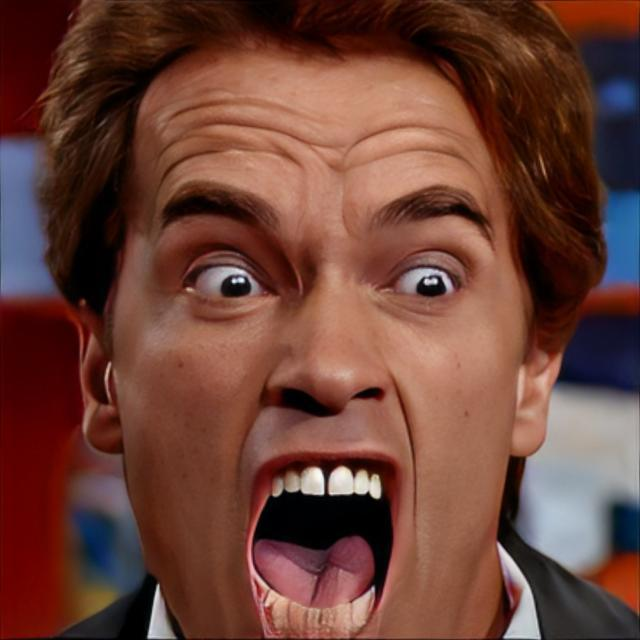fear: (108, 33, 530, 640)
